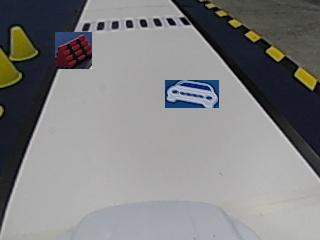crosswalk: (80, 16, 190, 32)
